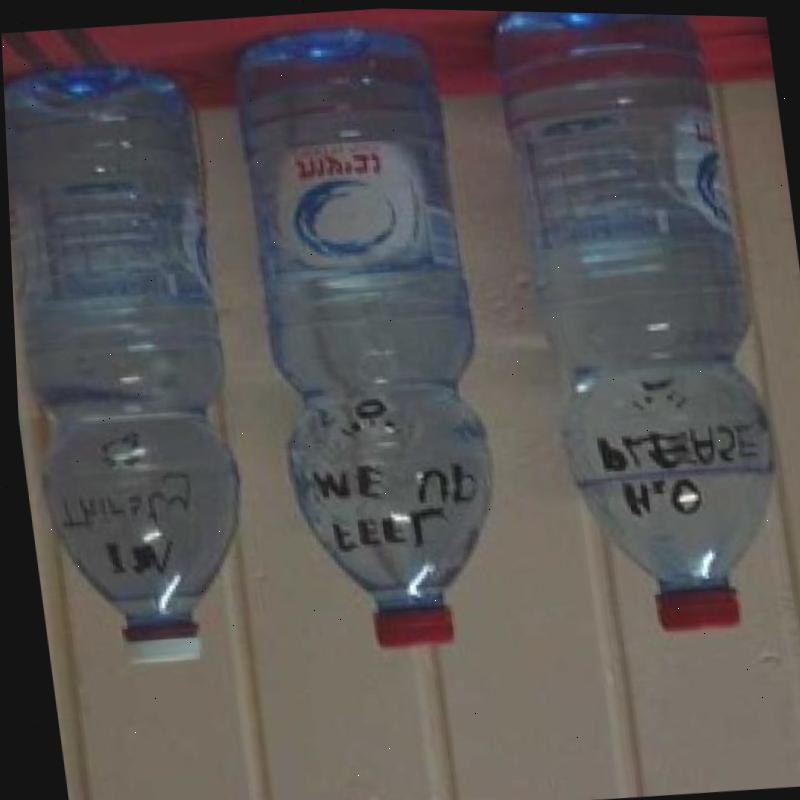botella: (479, 8, 797, 644), (227, 14, 514, 657), (2, 58, 269, 672)
